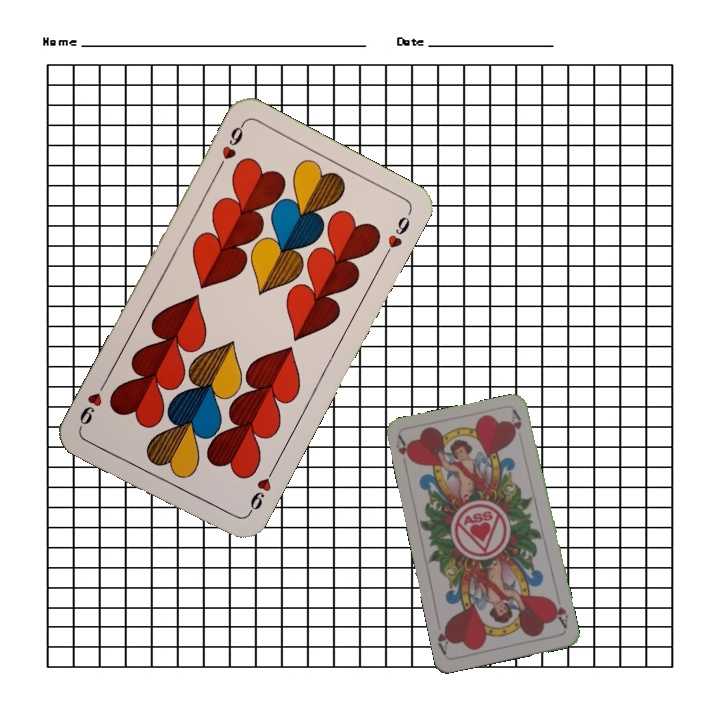H9: (213, 119, 247, 174), (243, 464, 277, 519)
HA: (548, 592, 571, 631), (392, 432, 415, 465)
